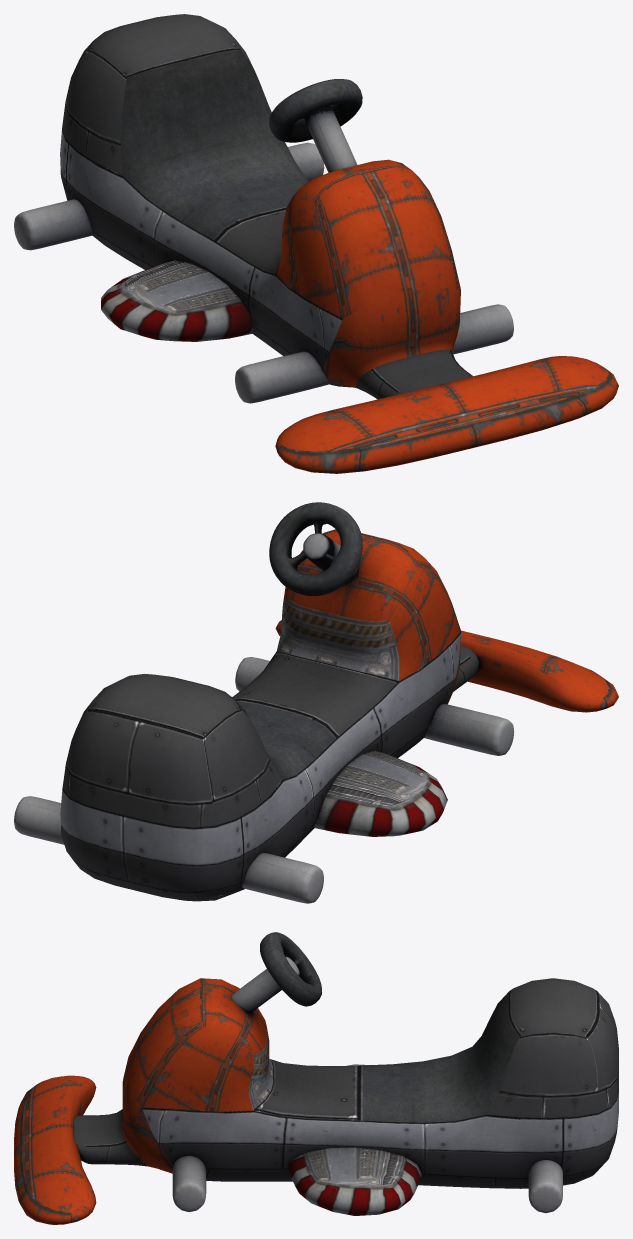
Rendered from Kart_Body.fbx.
The picture shows the model from 3 angles, top to bottom: view 1: azimuth 30°, elevation 25°; view 2: azimuth 150°, elevation 25°; view 3: azimuth 270°, elevation 25°; orthographic projection. The views are drawn at different scales.
Visible parts, largest first — view 1: Kart; view 2: Kart; view 3: Kart.
Boxes of the visible parts, box(x1,y1,x2,y2) form: Kart: box(14, 14, 618, 473); Kart: box(14, 502, 618, 903); Kart: box(14, 932, 618, 1224).
Size of the model in its own units: 0.5944 by 0.454 by 1.08.
